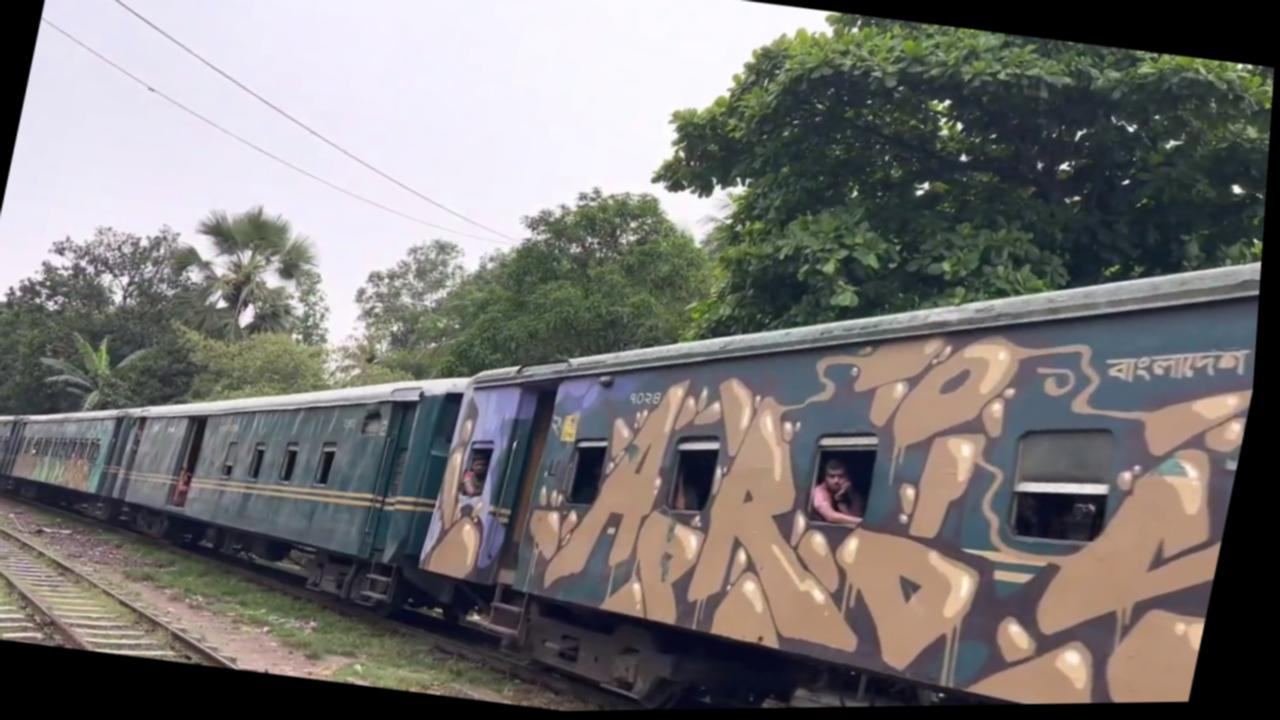Fence: (812, 457, 881, 530), (464, 453, 496, 500)
Motorcycle: (0, 484, 275, 671)
Potted-plant: (0, 84, 1275, 720)
Railroad-crossing: (414, 164, 739, 415), (155, 191, 336, 353), (342, 226, 480, 385)
